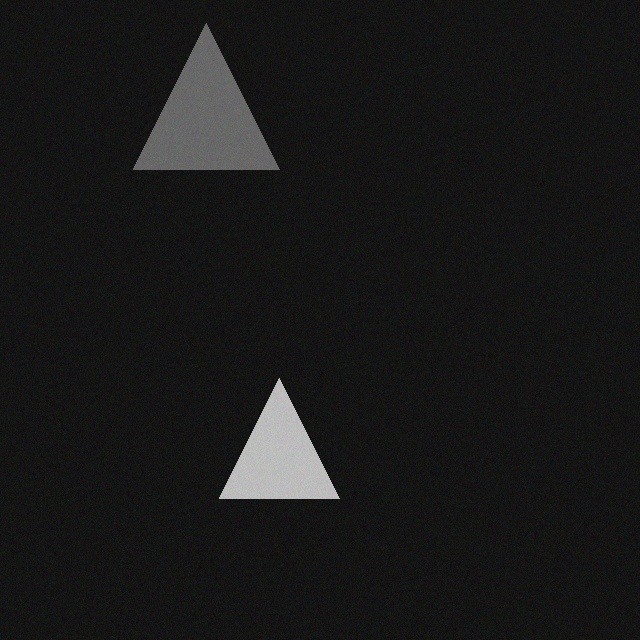triangle: (131, 37, 277, 183), (217, 392, 337, 512)
